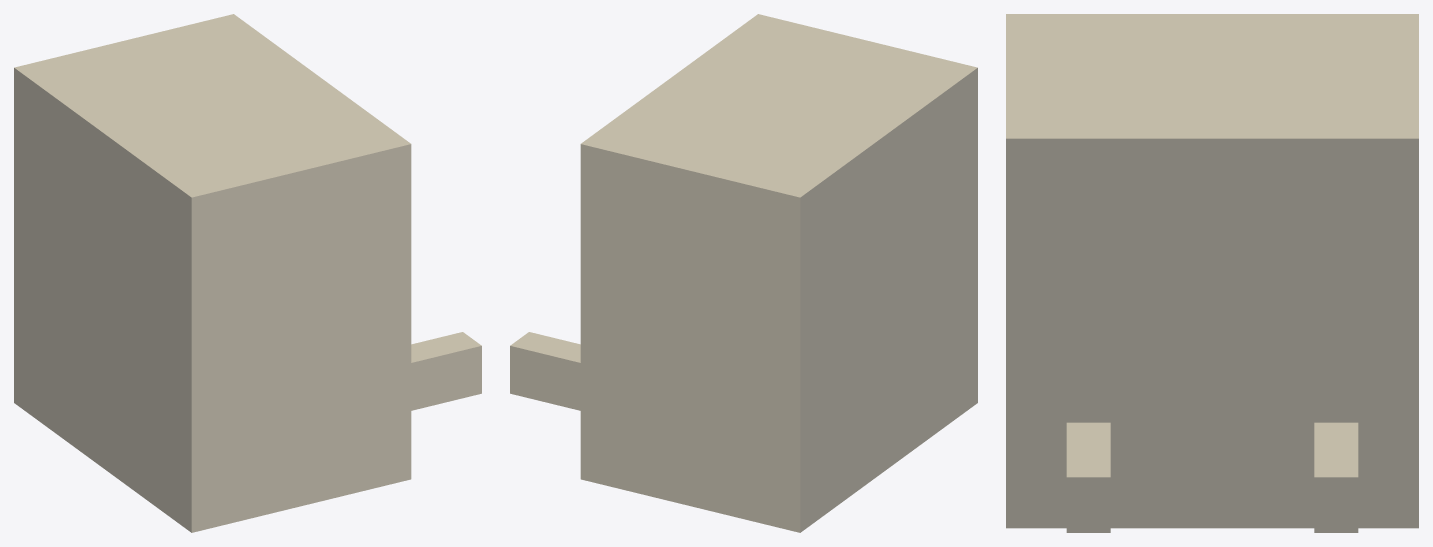
The model's file is BRAT_M5_R_LOW_06.glb.
The picture shows the model from 3 angles, left to right: view 1: azimuth 30°, elevation 25°; view 2: azimuth 150°, elevation 25°; view 3: azimuth 270°, elevation 25°; orthographic projection. The views are drawn at different scales.
Parts seen in each view (by area): view 1: BRAT_M5_R_LOW_06.001; view 2: BRAT_M5_R_LOW_06.001; view 3: BRAT_M5_R_LOW_06.001.
Boxes of the visible parts, x1=… form: BRAT_M5_R_LOW_06.001: x1=14, y1=14, x2=481, y2=532; BRAT_M5_R_LOW_06.001: x1=510, y1=14, x2=977, y2=532; BRAT_M5_R_LOW_06.001: x1=1006, y1=14, x2=1418, y2=532.
Bounding box in the file's own units: 0.3454 × 0.35 × 0.336.
